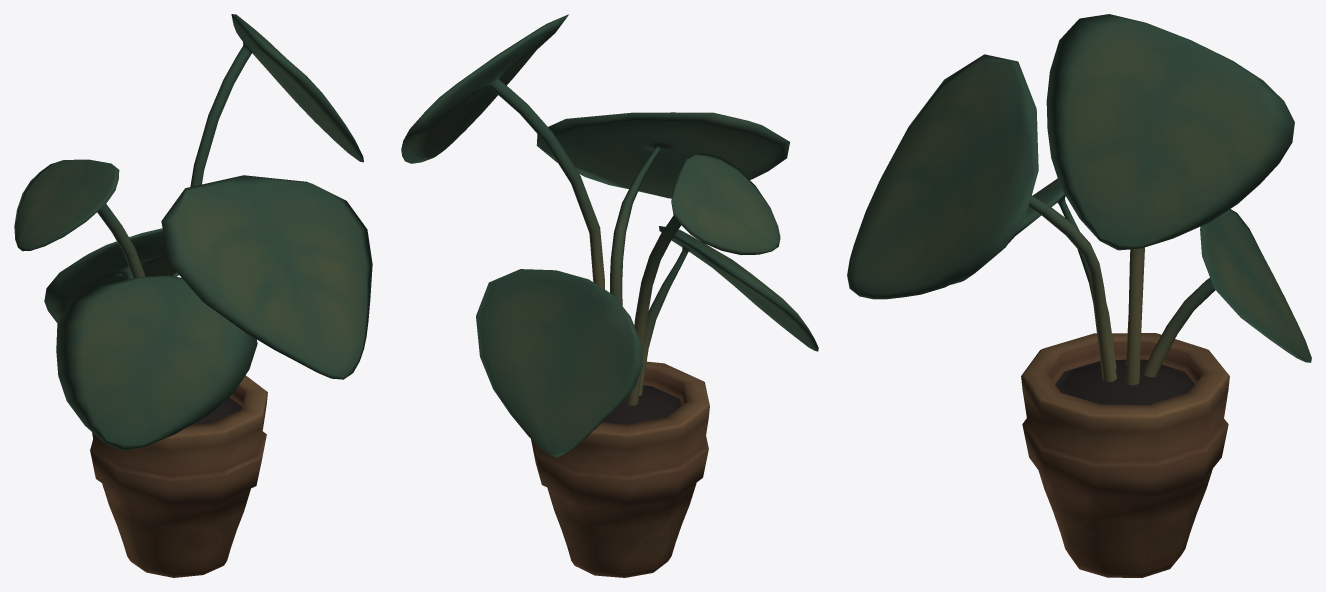
The model's file is Potplant1.fbx.
3 renders of one model, left to right at view 1: azimuth 30°, elevation 25°; view 2: azimuth 150°, elevation 25°; view 3: azimuth 270°, elevation 25°, orthographic. The views are drawn at different scales.
Parts seen in each view (by area): view 1: Cylinder; view 2: Cylinder; view 3: Cylinder.
Boxes of the visible parts, x1,y1,x2,y2 form: Cylinder: (14,14,372,577); Cylinder: (401,14,818,577); Cylinder: (847,14,1311,577).
Size of the model in its own units: 27.65 by 40.14 by 29.13.
